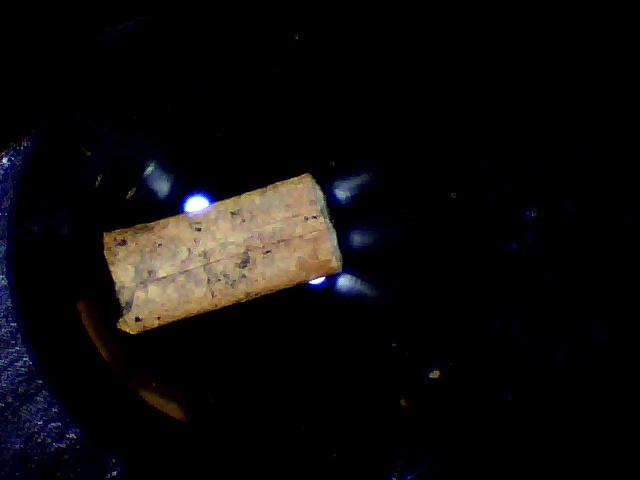megot: (96, 163, 346, 341)
